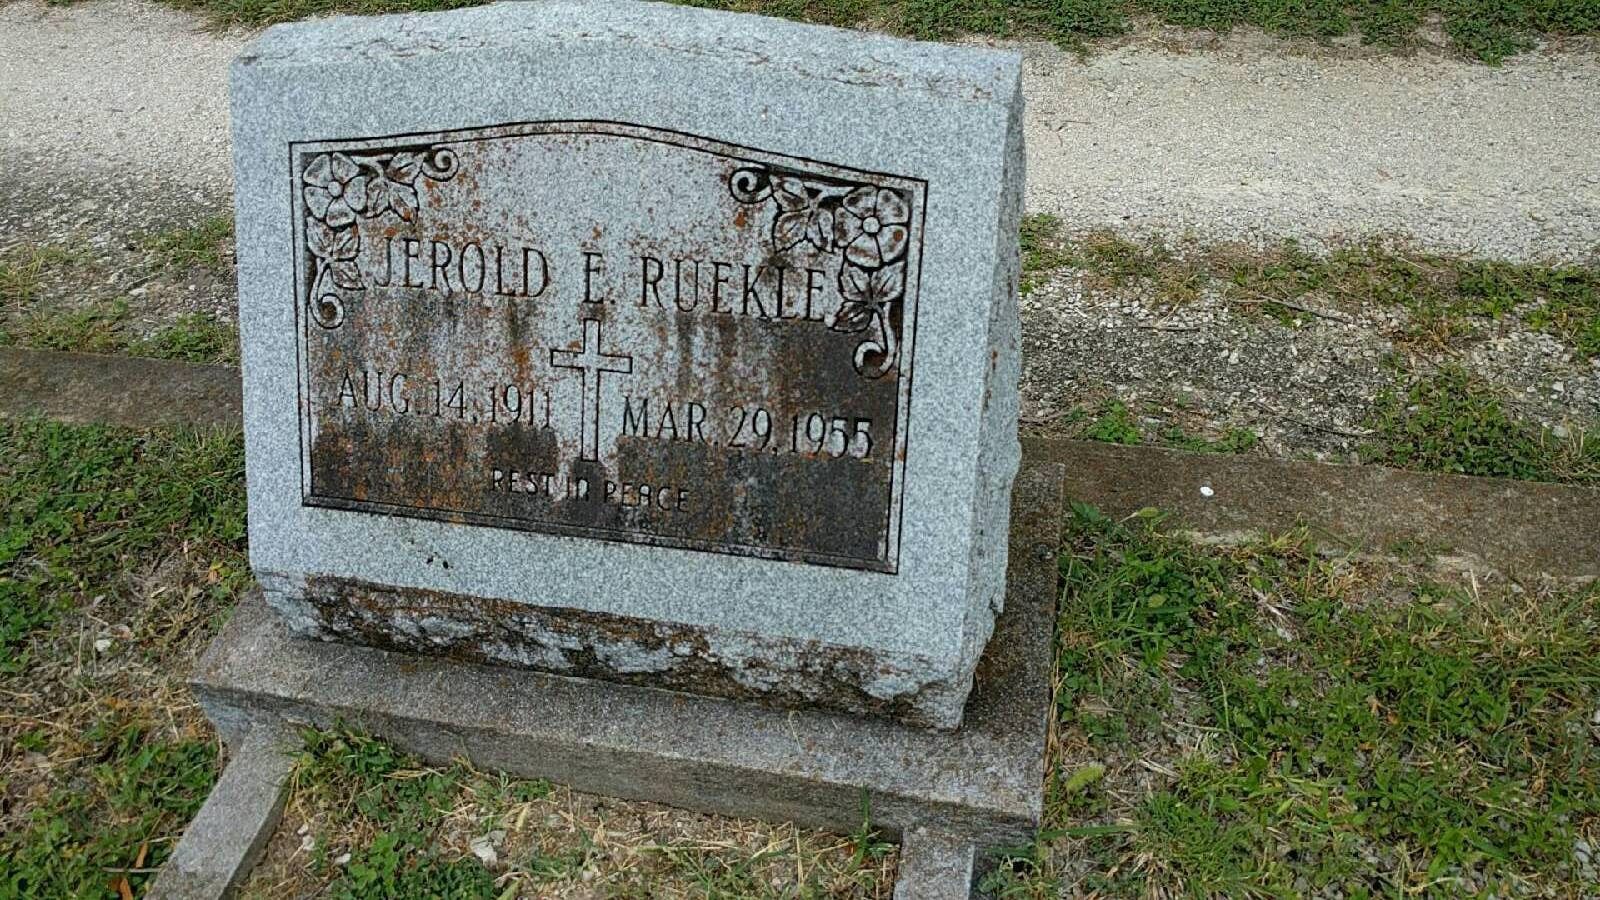upright: (199, 7, 1080, 845)
